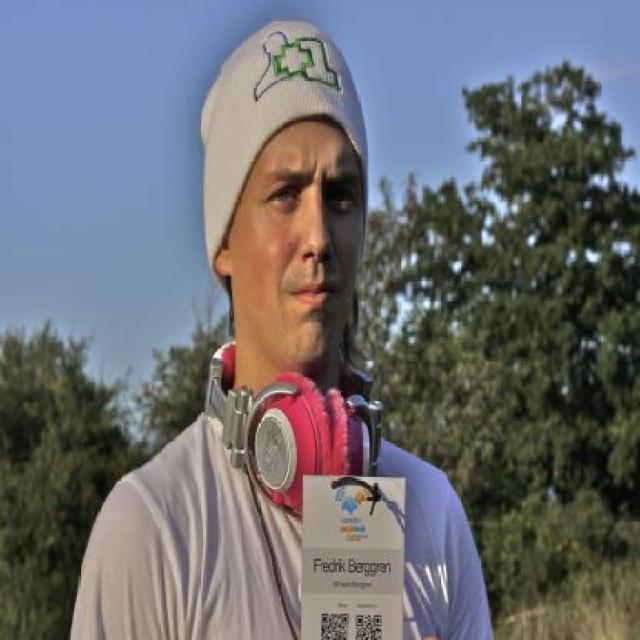earphone: (194, 336, 412, 520)
